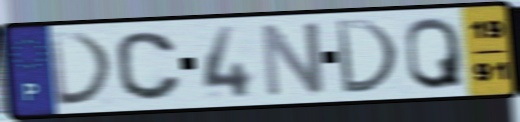4: (199, 23, 259, 102)
C: (112, 29, 186, 103)
D: (46, 31, 118, 109), (332, 17, 402, 95)
N: (258, 18, 328, 101)
Q: (403, 14, 466, 92)
